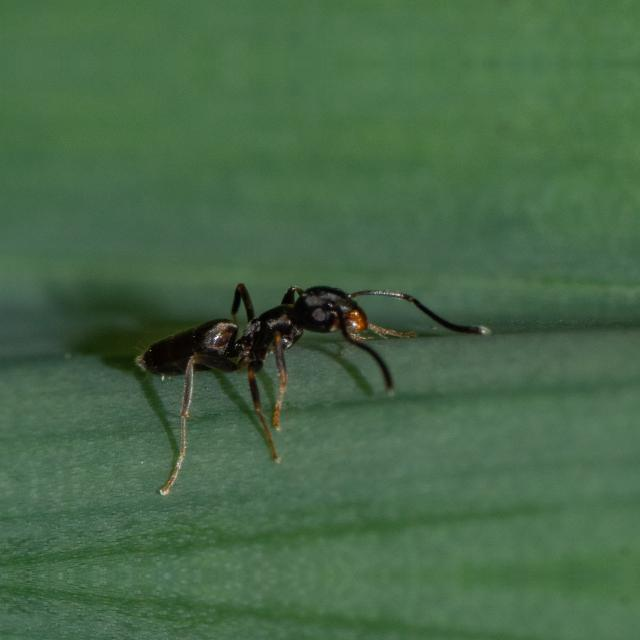Tapinoma: (123, 258, 424, 416)
